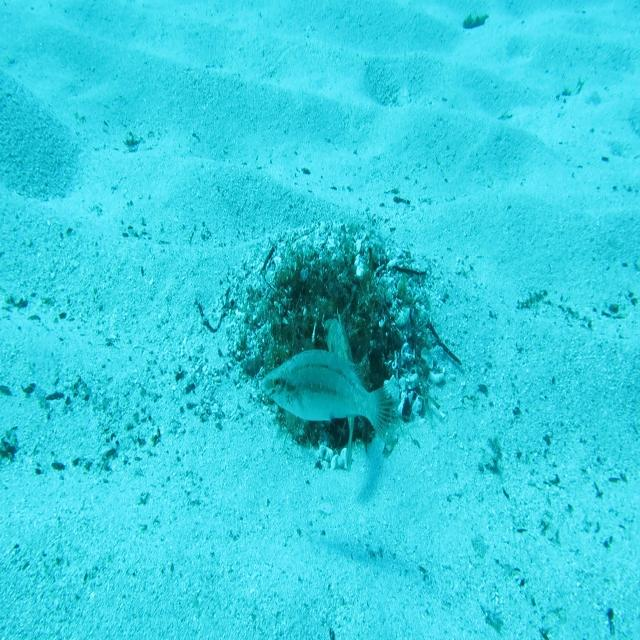FAN: (322, 307, 357, 477)
core_nest: (304, 276, 356, 317)
female: (260, 348, 402, 453)
nest: (222, 218, 449, 484)
vegetation: (460, 14, 488, 31)
